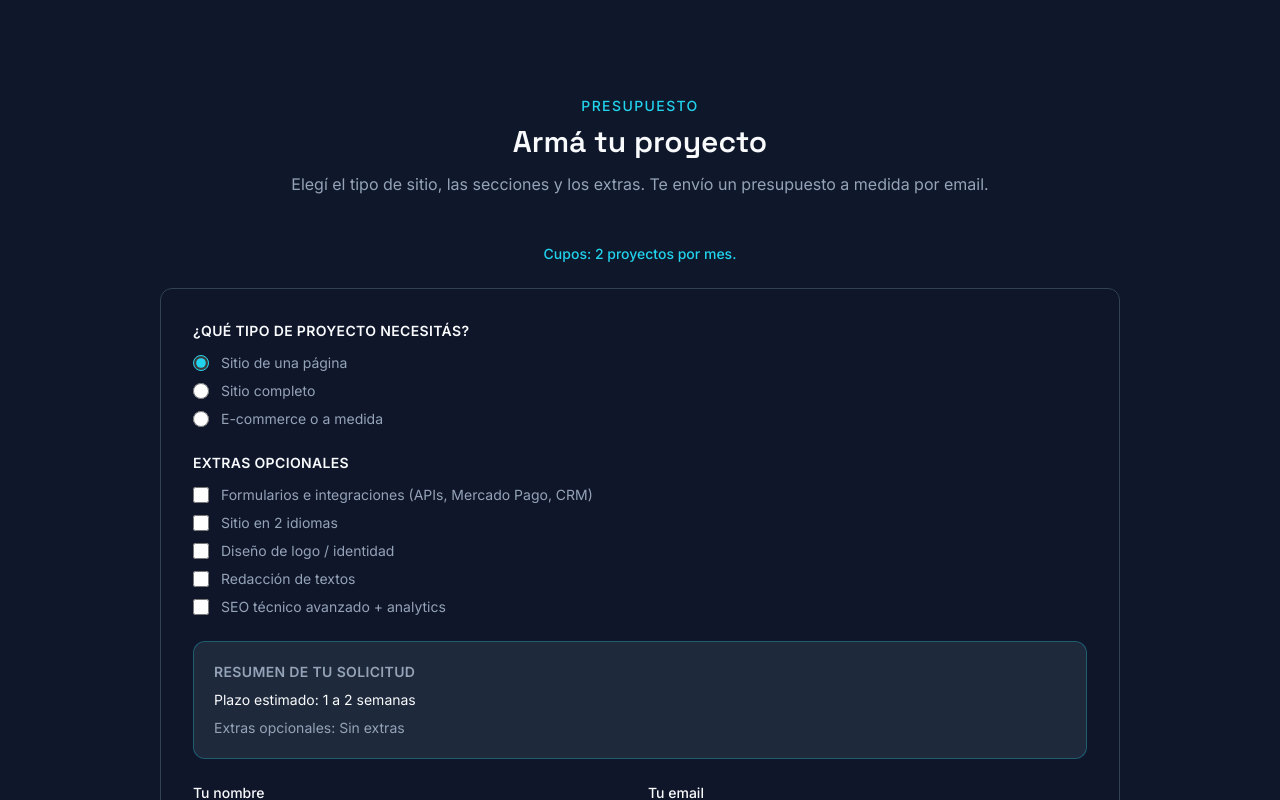
Test: Estimator › shows the estimated timeline for the selected tier
This screenshot has width=1280, height=800.
Expected: the element with test id "quote-summary" shows "1 a 2 semanas", [323, 691, 416, 708]
What coordinates should you click on to do the following:
click the radio button labelled "E-commerce o a medida"
I would click on:
 (201, 419)
Its box is [193, 411, 209, 427].
(page scrolled)
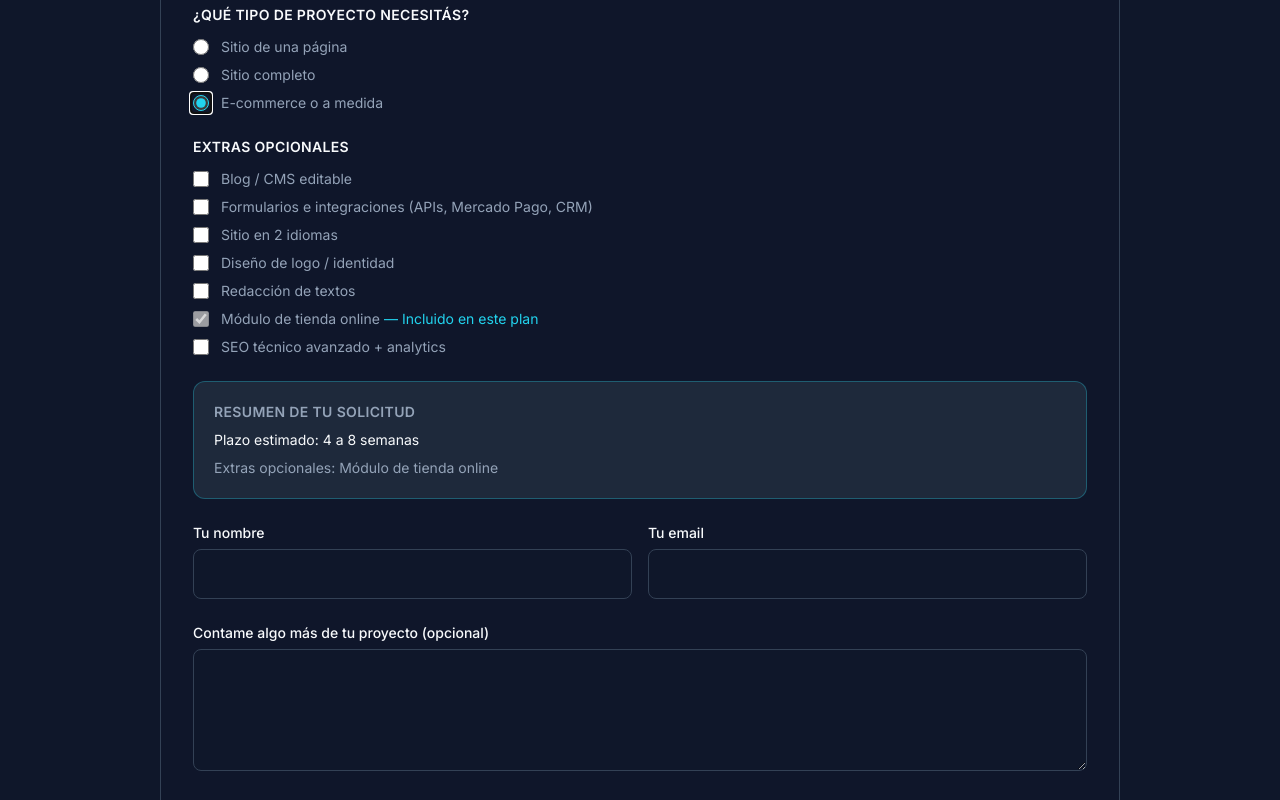
Expected: the element with test id "quote-summary" shows "4 a 8 semanas", [323, 431, 419, 448]
